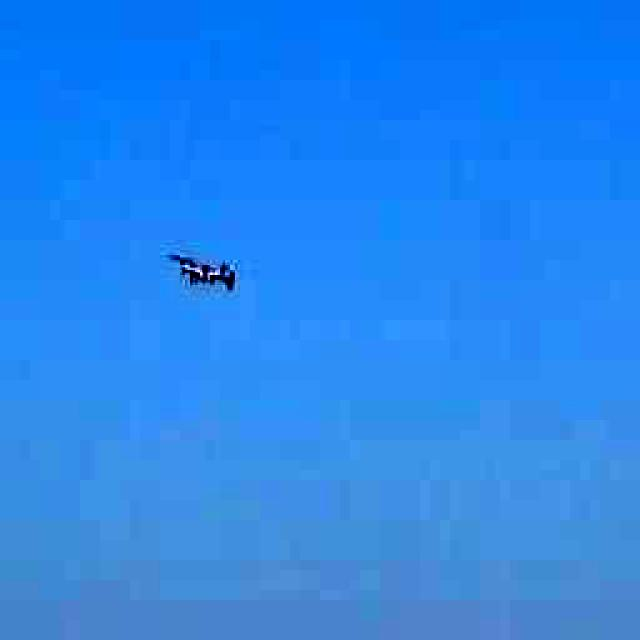bird: (164, 240, 254, 308)
